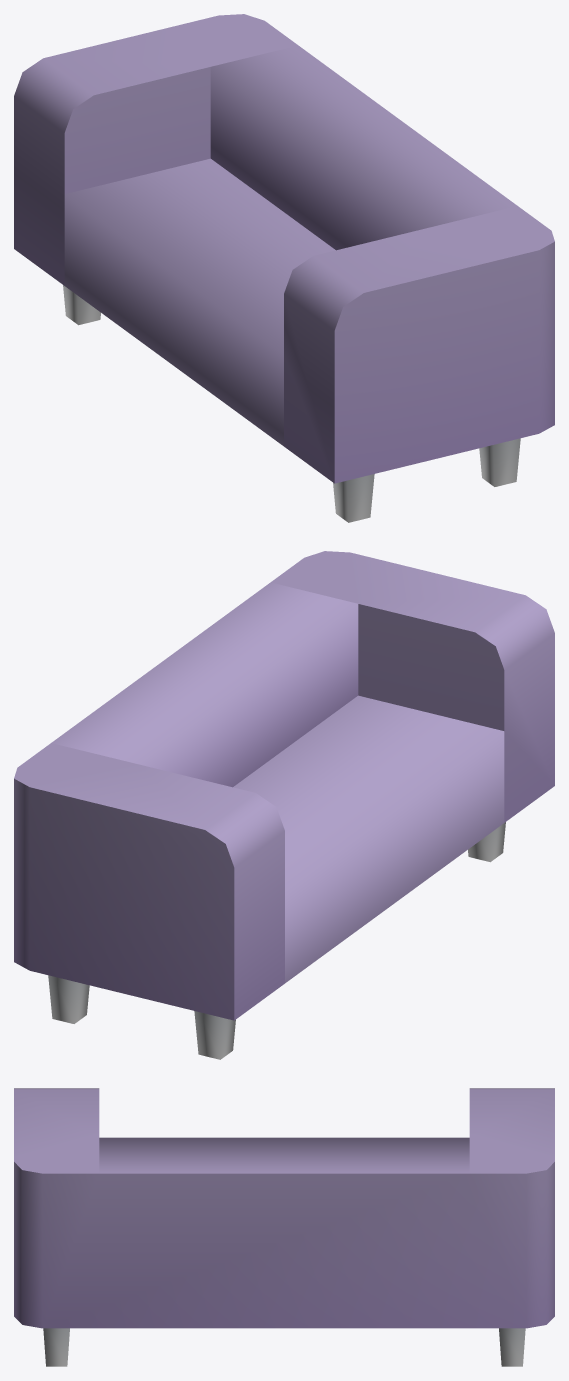
The model's file is manhattan-sofa.glb.
The picture shows the model from 3 angles, top to bottom: view 1: azimuth 30°, elevation 25°; view 2: azimuth 150°, elevation 25°; view 3: azimuth 270°, elevation 25°; orthographic projection. The views are drawn at different scales.
Visible parts, largest first — view 1: manhattan-sofa; view 2: manhattan-sofa; view 3: manhattan-sofa.
Part boxes in pixels (x1,y1,x2,y2): manhattan-sofa: (14, 14, 554, 522); manhattan-sofa: (14, 551, 554, 1059); manhattan-sofa: (14, 1088, 554, 1366).
Bounding box in the file's own units: 0.672 × 0.672 × 1.6.
